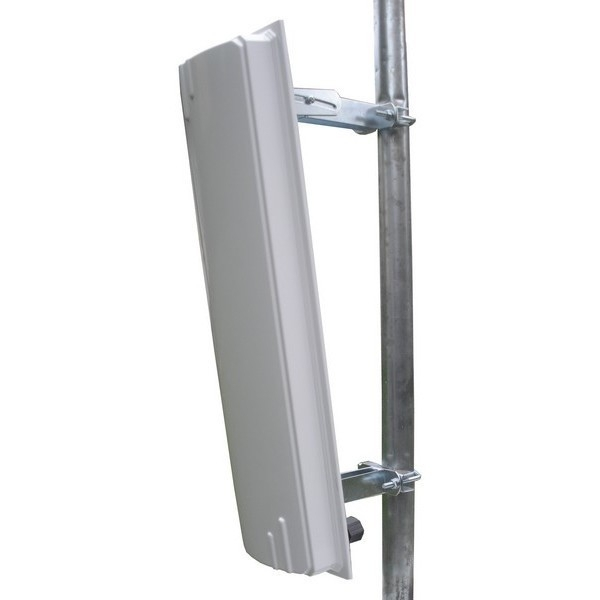sa: (150, 25, 367, 576)
